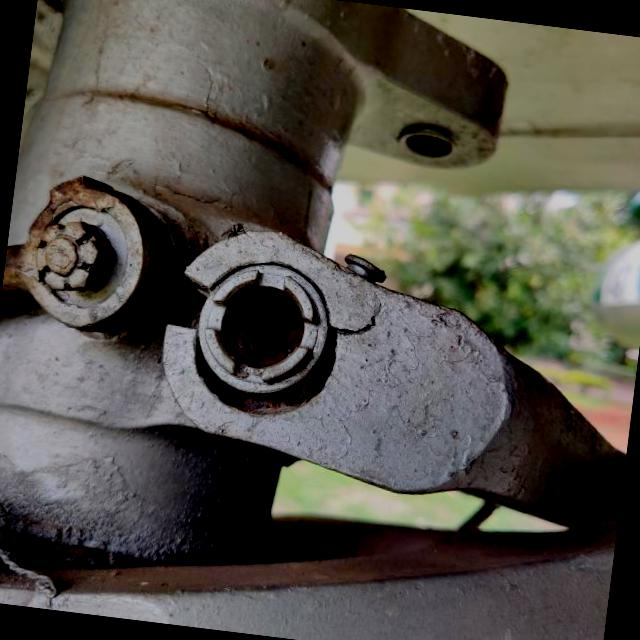crack: (331, 294, 384, 342)
